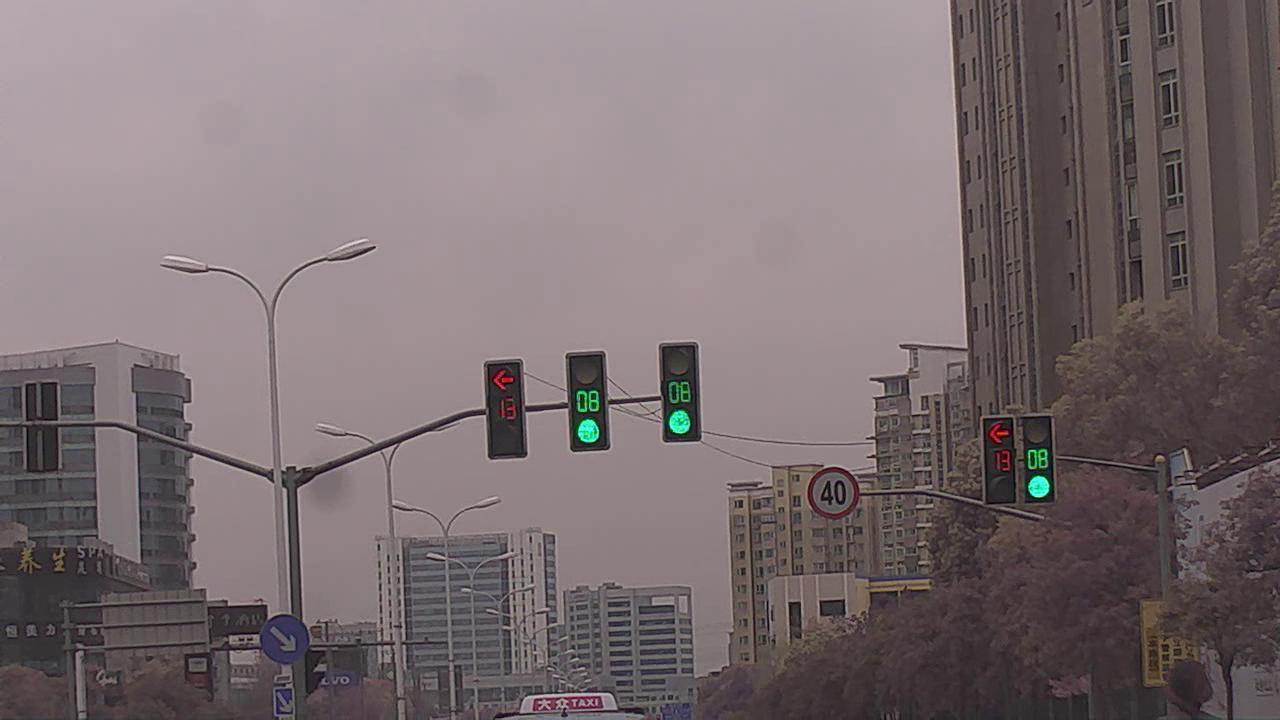traffic_light: (566, 350, 613, 453), (657, 341, 703, 444), (482, 360, 529, 460), (980, 415, 1018, 506), (1022, 414, 1058, 507)
